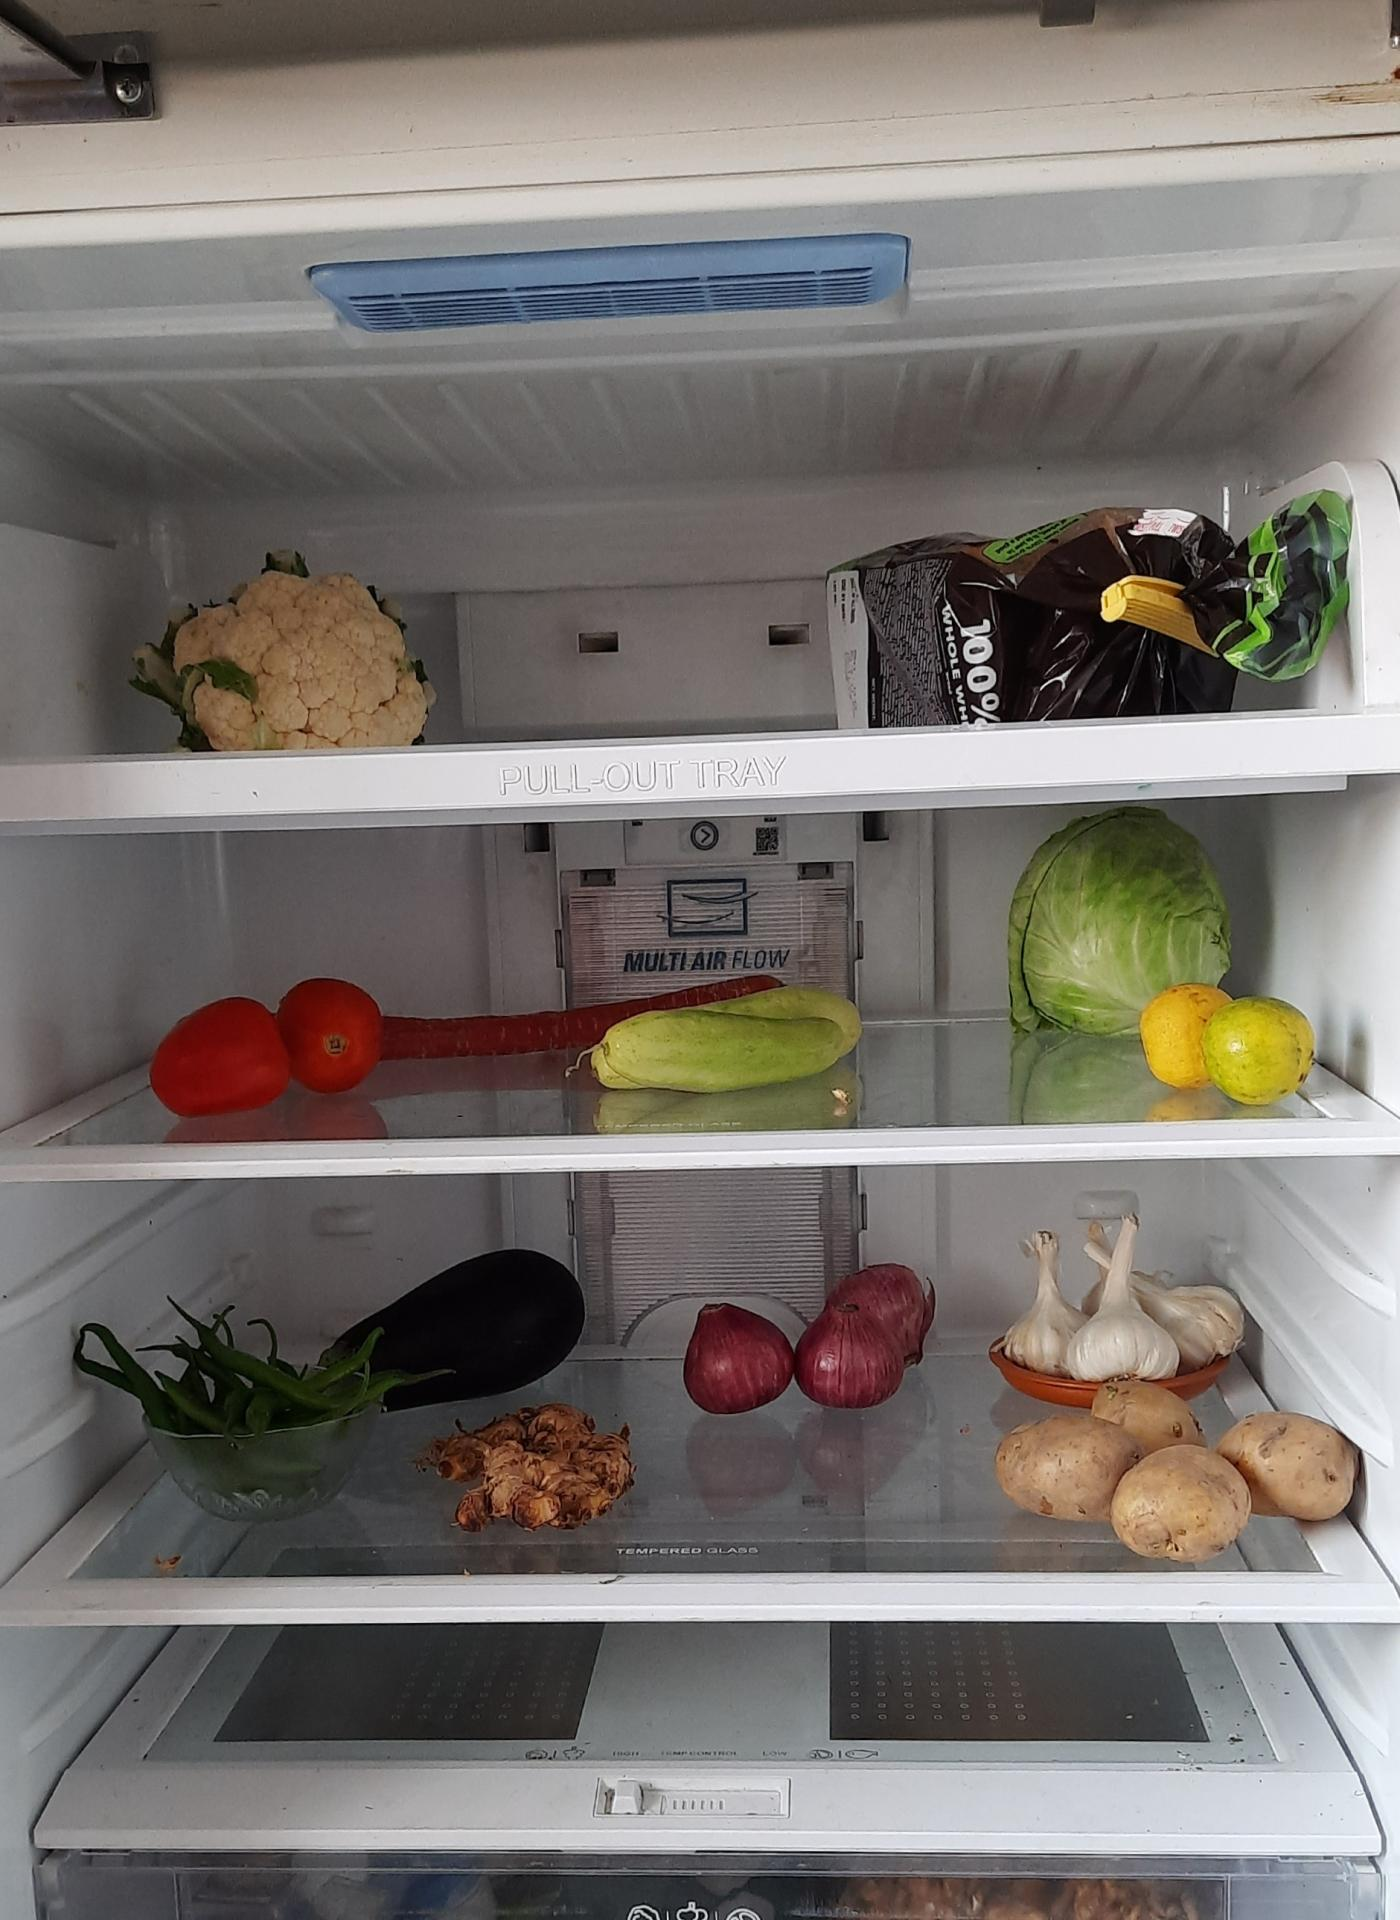bread: (839, 489, 1366, 729)
brinjal: (993, 1379, 1370, 1574), (270, 1237, 598, 1421)
cabbage: (1012, 806, 1240, 1036)
carrots: (350, 967, 814, 1072)
cauliflower: (161, 553, 432, 748)
chillies: (106, 1307, 382, 1500)
cucumber: (592, 990, 874, 1096)
garlic: (1006, 1209, 1249, 1380)
ginger: (432, 1404, 641, 1535)
lemon: (1139, 982, 1318, 1105)
onion: (686, 1260, 935, 1407)
tomato: (155, 982, 386, 1117)
